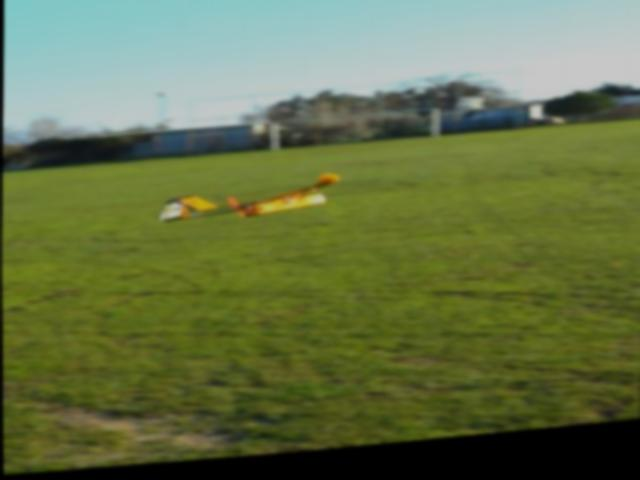iha: (153, 157, 352, 236)
